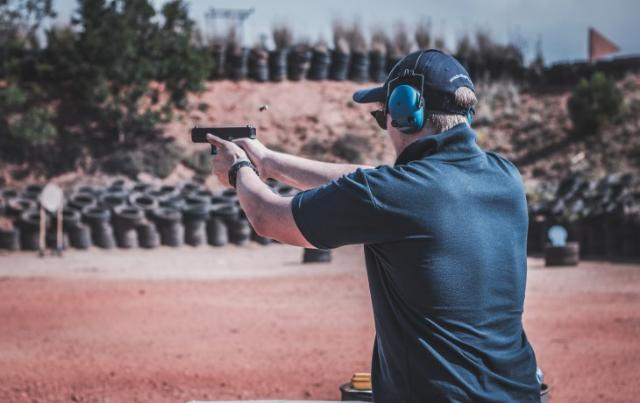handgun: (190, 122, 260, 164)
